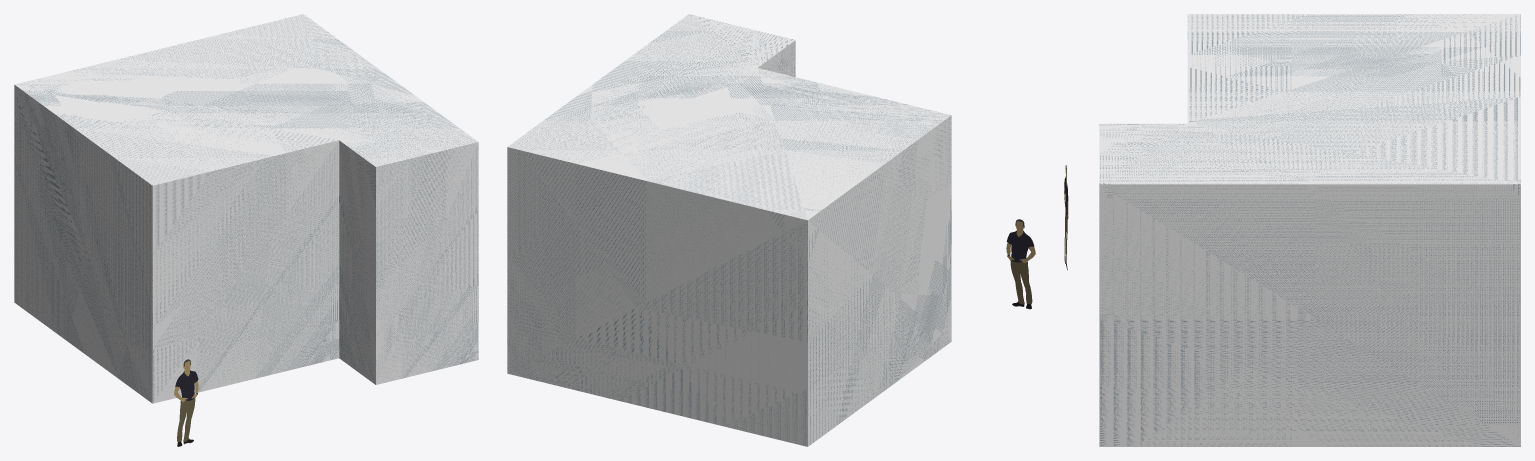
Rendered from Cinema.dae.
3 views of the same model, side by side, from view 1: azimuth 30°, elevation 25°; view 2: azimuth 150°, elevation 25°; view 3: azimuth 270°, elevation 25° (orthographic). The views are drawn at different scales.
Parts seen in each view (by area): view 1: SketchUp, Chris; view 2: SketchUp, Chris (×2); view 3: SketchUp.
Part boxes in pixels (<box>): SketchUp: <box>14,14,478,403</box>; Chris: <box>177,398,195,442</box>; SketchUp: <box>507,14,951,446</box>; Chris (×2): <box>1006,230,1034,304</box>; SketchUp: <box>1099,14,1520,446</box>.
Bounding box in the file's own units: 274 × 281 × 179.
